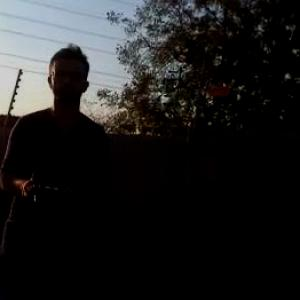follow: (0, 34, 118, 299)
